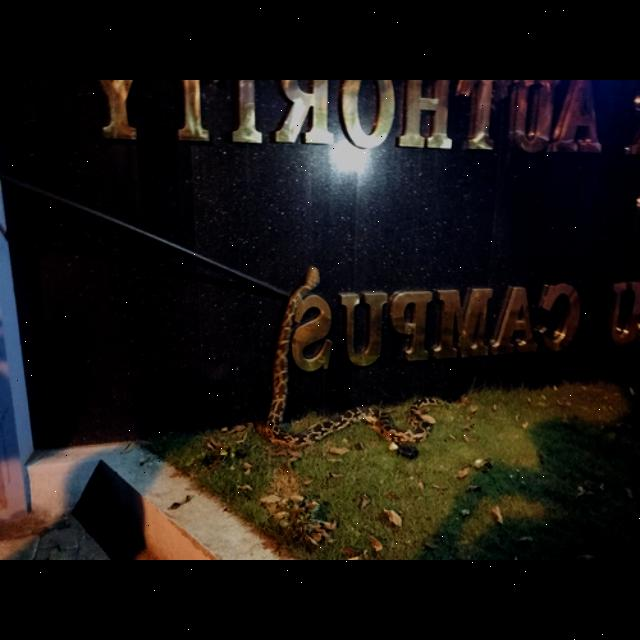snake: (235, 264, 448, 462)
